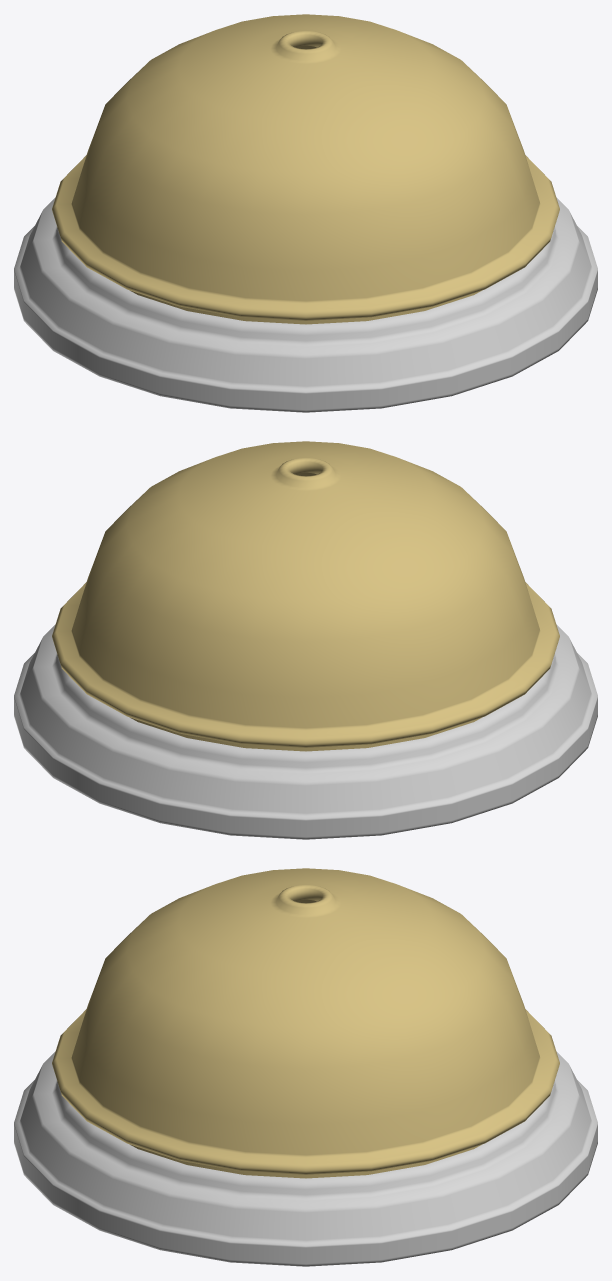
Rendered from BrassInkWell.fbx.
The picture shows the model from 3 angles, top to bottom: view 1: azimuth 30°, elevation 25°; view 2: azimuth 150°, elevation 25°; view 3: azimuth 270°, elevation 25°; orthographic projection.
Visible parts, largest first — view 1: Inkwell_LOD0; view 2: Inkwell_LOD0; view 3: Inkwell_LOD0.
Part boxes in pixels (bbox=[...]): Inkwell_LOD0: bbox=[14, 14, 597, 412]; Inkwell_LOD0: bbox=[14, 441, 597, 839]; Inkwell_LOD0: bbox=[14, 868, 597, 1266].
Size of what is drawn, in the model's own units: 28.39 by 13.35 by 28.39.
